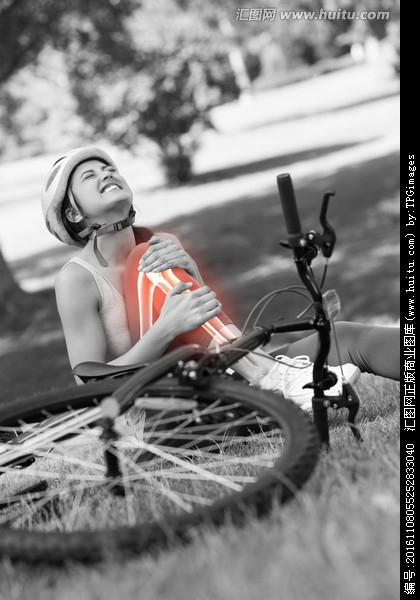fall: (37, 119, 396, 419)
